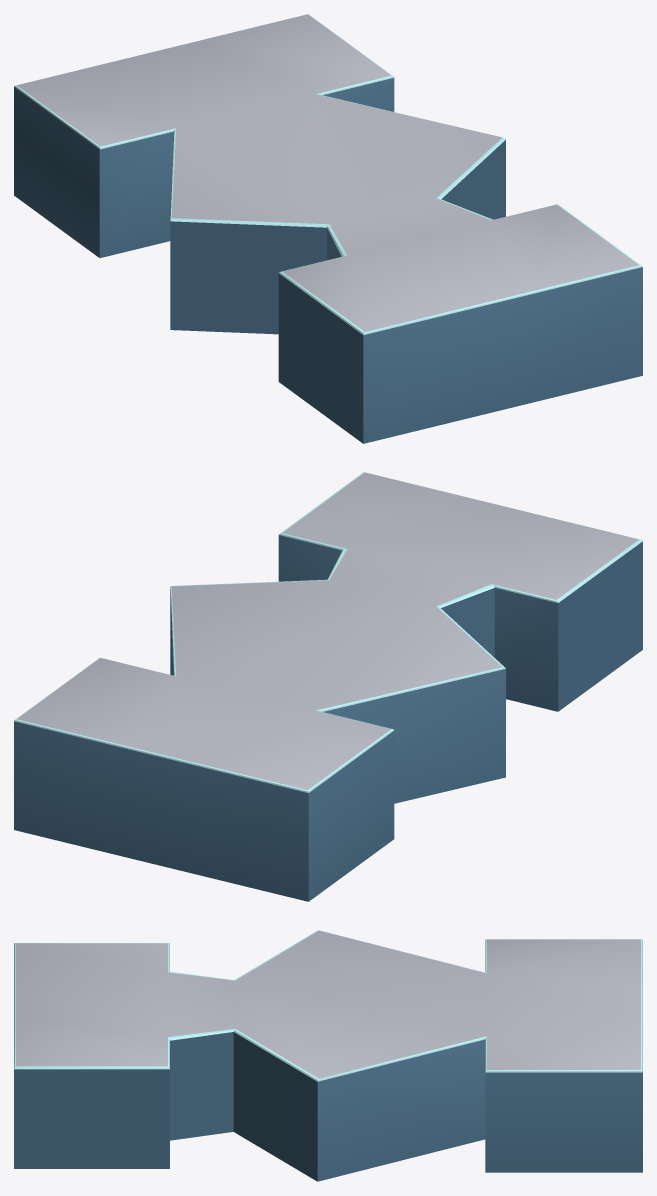
Rendered from Lvl5.fbx.
3 views of the same model, one above another, from view 1: azimuth 30°, elevation 25°; view 2: azimuth 150°, elevation 25°; view 3: azimuth 270°, elevation 25° (orthographic). The views are drawn at different scales.
Visible parts, largest first — view 1: lvl5; view 2: lvl5; view 3: lvl5.
Boxes of the visible parts, x1,y1,x2,y2 form: lvl5: (14, 14, 642, 443); lvl5: (14, 472, 642, 901); lvl5: (14, 930, 642, 1181).
Bounding box in the file's own units: 4520 × 1421 × 7971.
